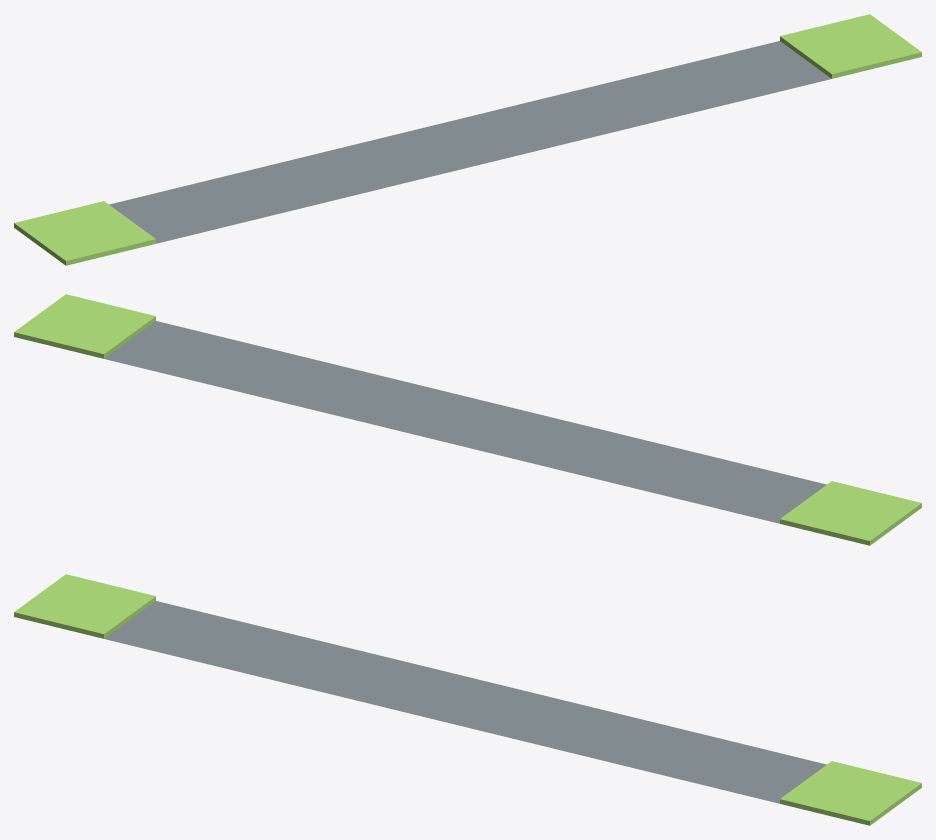
Rendered from asfalto.fbx.
The picture shows the model from 3 angles, top to bottom: view 1: azimuth 30°, elevation 25°; view 2: azimuth 150°, elevation 25°; view 3: azimuth 330°, elevation 25°; orthographic projection.
Parts seen in each view (by area): view 1: estrada, calçada, calçada.001; view 2: estrada, calçada, calçada.001; view 3: estrada, calçada, calçada.001.
Part boxes in pixels (x1,y1,x2,y2): estrada: (109,41,831,243); calçada: (14,201,155,265); calçada.001: (780,14,921,78); estrada: (104,321,826,523); calçada: (780,481,921,545); calçada.001: (14,294,155,358); estrada: (104,601,826,803); calçada: (14,574,155,638); calçada.001: (780,761,921,825).
Bounding box in the file's own units: 19 × 0.1 × 2.
